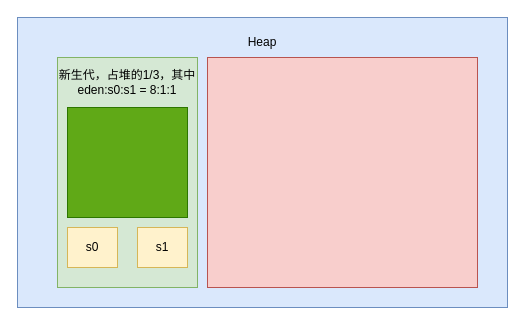
Image size: 525x325. Some labels were removed from this diagram. The shapes that lost their labels are listed below. From the top down, each one's centre as x and y in pixels, then its label:
the point at 127,162: Eden
the point at 342,172: 老年代，约占堆的2/3
